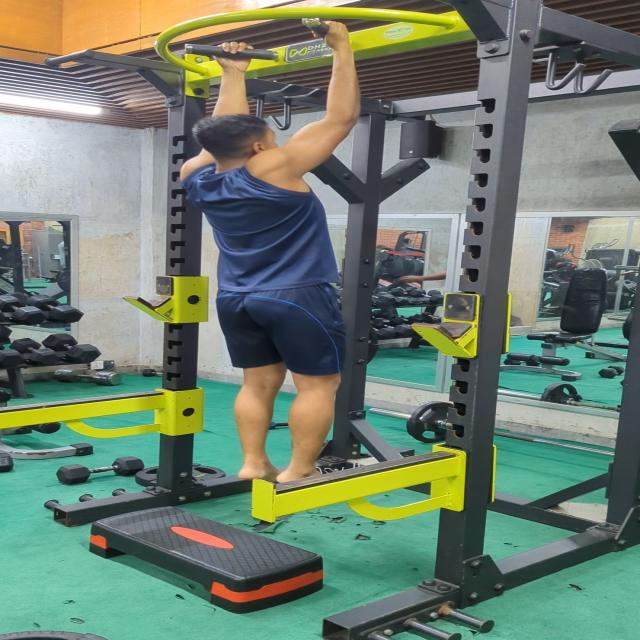Normal_PullUps: (173, 20, 364, 488)
